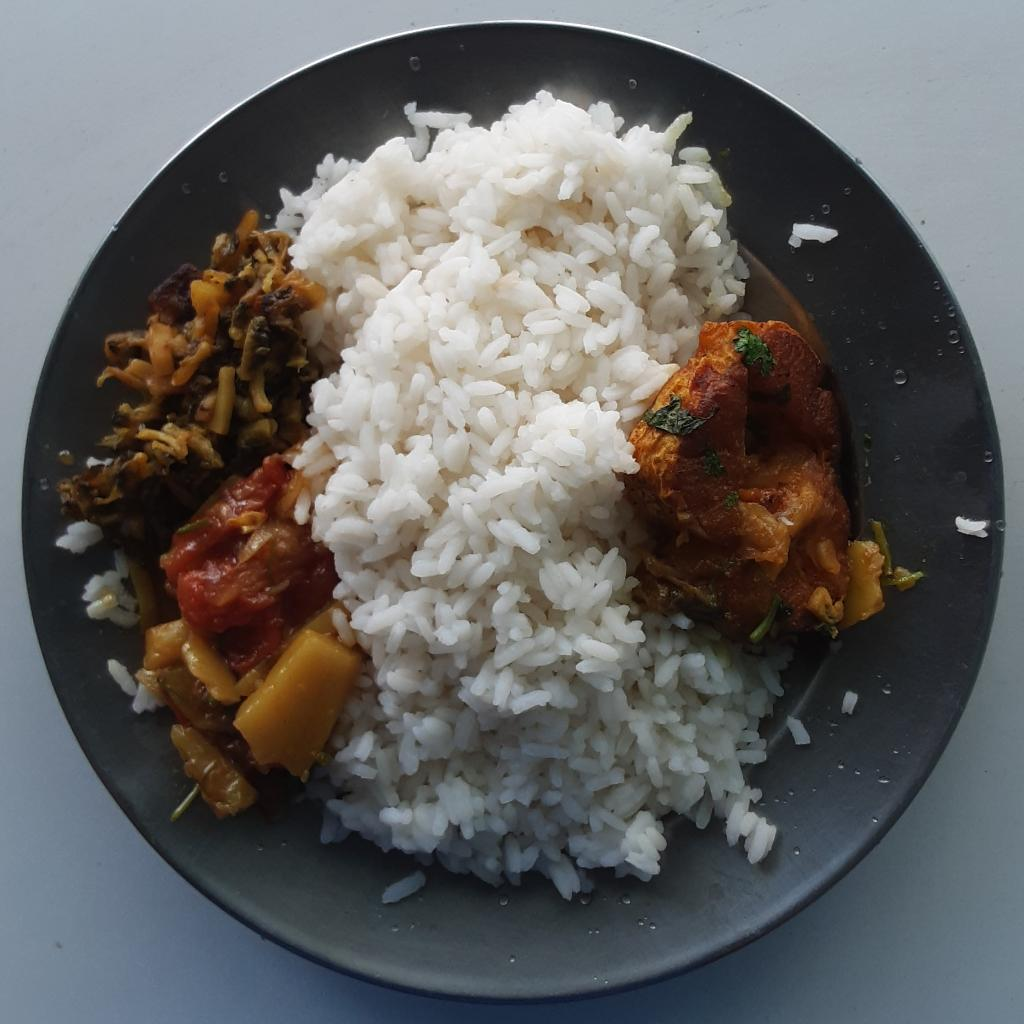fish: (615, 319, 887, 648)
korola-vaji: (57, 211, 330, 551)
potato: (136, 623, 354, 818)
rice: (273, 88, 794, 907)
tomato: (158, 448, 340, 672)
